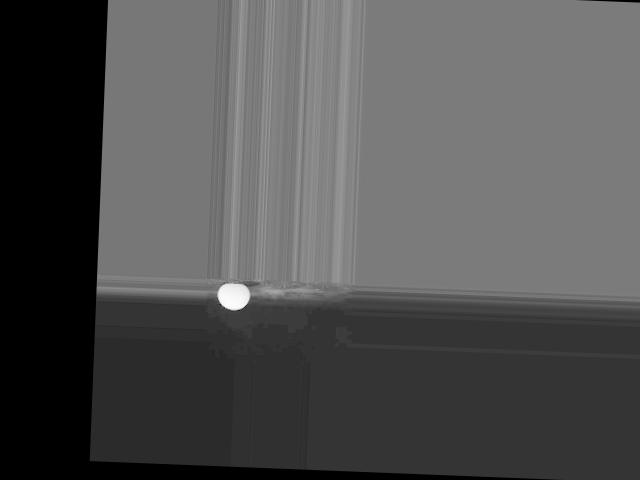egg: (217, 282, 251, 310)
